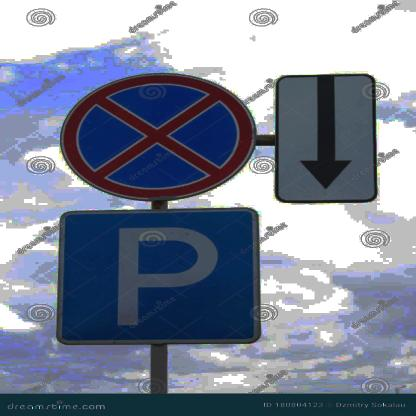Parking: (57, 212, 270, 345)
